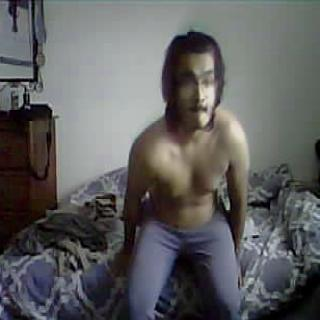Blue Sweatpants: (131, 218, 238, 320)
